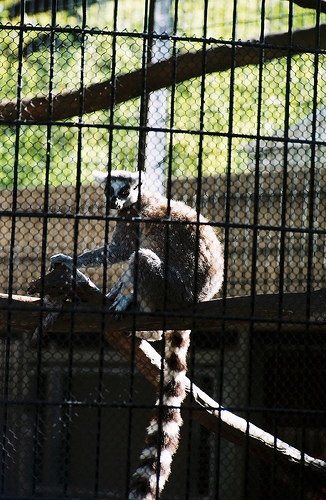cat: (45, 168, 229, 498)
